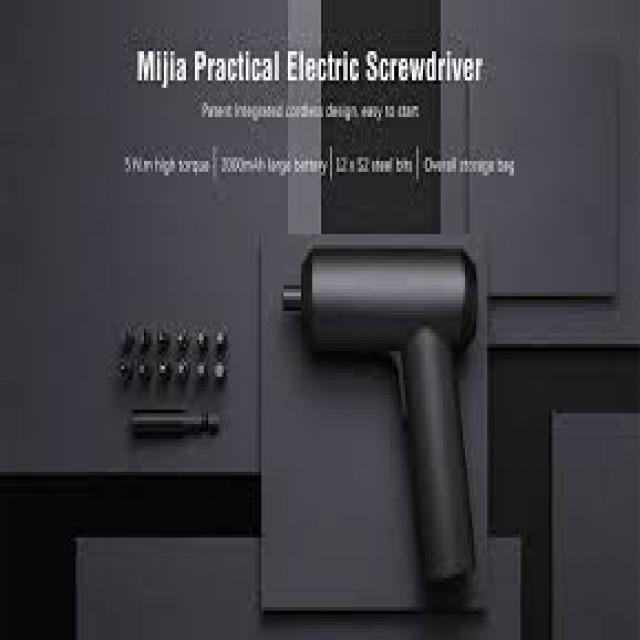drill: (257, 238, 517, 636)
